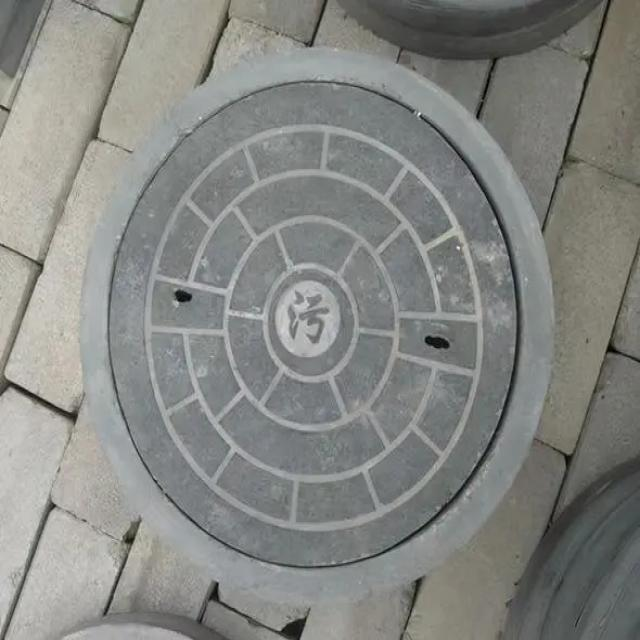manhole: (81, 49, 552, 599)
